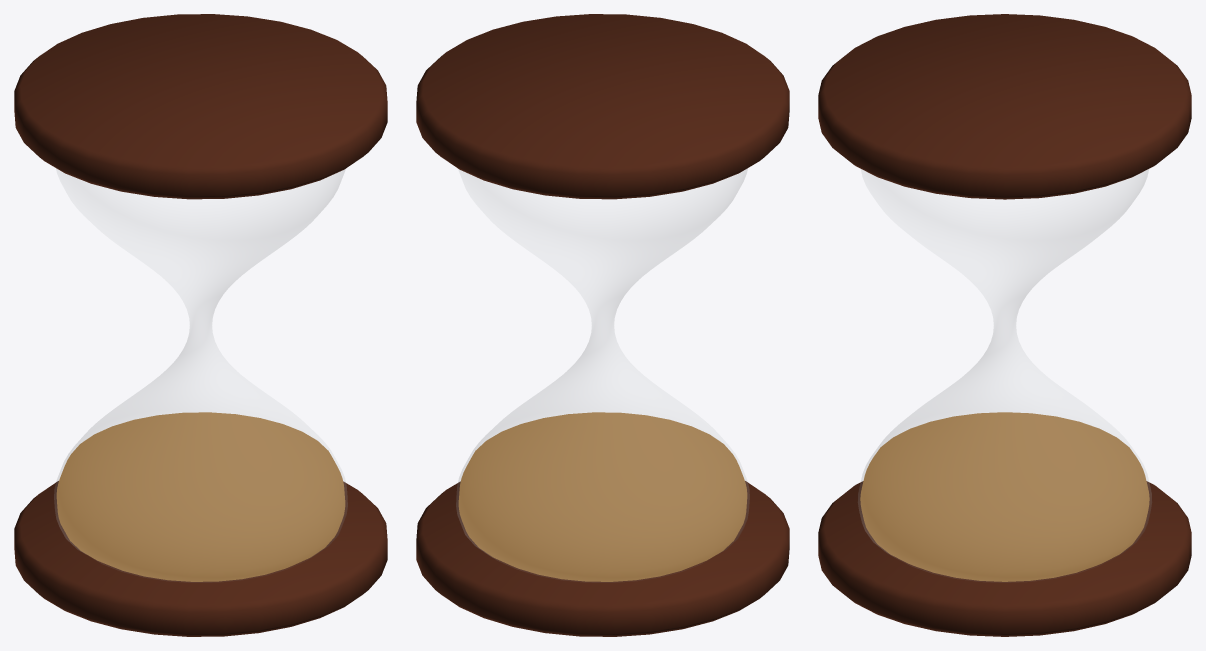
File: hourglass.glb
The picture shows the model from 3 angles, left to right: view 1: azimuth 30°, elevation 25°; view 2: azimuth 150°, elevation 25°; view 3: azimuth 270°, elevation 25°; orthographic projection.
Parts seen in each view (by area): view 1: TopPlate, Sand, Glass, BasePlate; view 2: TopPlate, Sand, Glass, BasePlate; view 3: TopPlate, Sand, Glass, BasePlate.
Part boxes in pixels (<box>): TopPlate: <box>14,14,387,199</box>; Sand: <box>56,412,345,581</box>; Glass: <box>54,169,347,558</box>; BasePlate: <box>14,481,387,636</box>; TopPlate: <box>416,14,789,199</box>; Sand: <box>458,412,747,581</box>; Glass: <box>456,169,749,558</box>; BasePlate: <box>416,481,789,636</box>; TopPlate: <box>818,14,1191,199</box>; Sand: <box>860,412,1149,581</box>; Glass: <box>858,169,1151,556</box>; BasePlate: <box>818,481,1191,636</box>.
Bounding box in the file's own units: 0.72 × 1 × 0.72.
